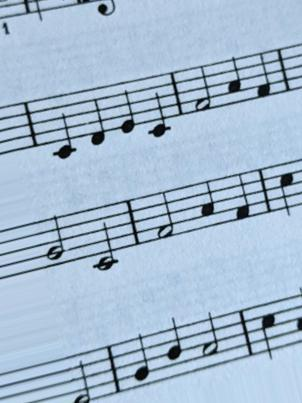A: (196, 177, 216, 235), (223, 53, 242, 108)
B: (163, 316, 186, 387)
D: (87, 85, 109, 150)
E: (116, 80, 138, 139)
F: (231, 168, 253, 228), (252, 51, 276, 106)
G: (132, 331, 153, 391)
HC: (276, 162, 298, 223), (257, 300, 277, 363)
LC: (46, 93, 79, 163), (145, 71, 175, 141)
